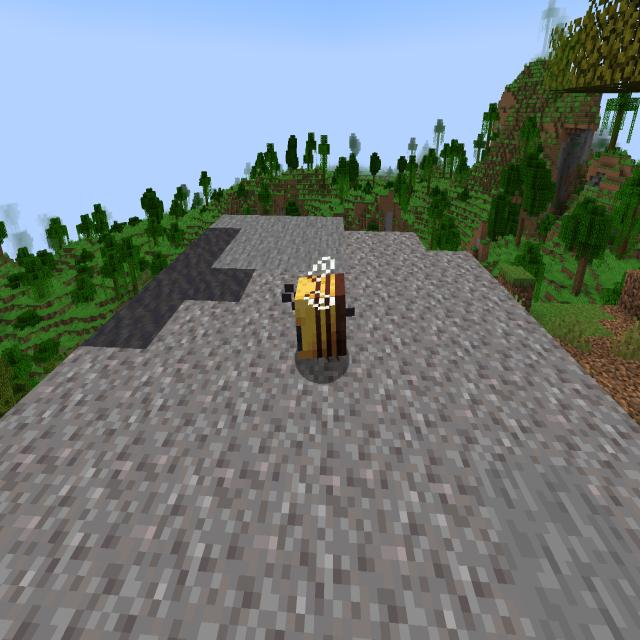bee: (275, 247, 361, 383)
